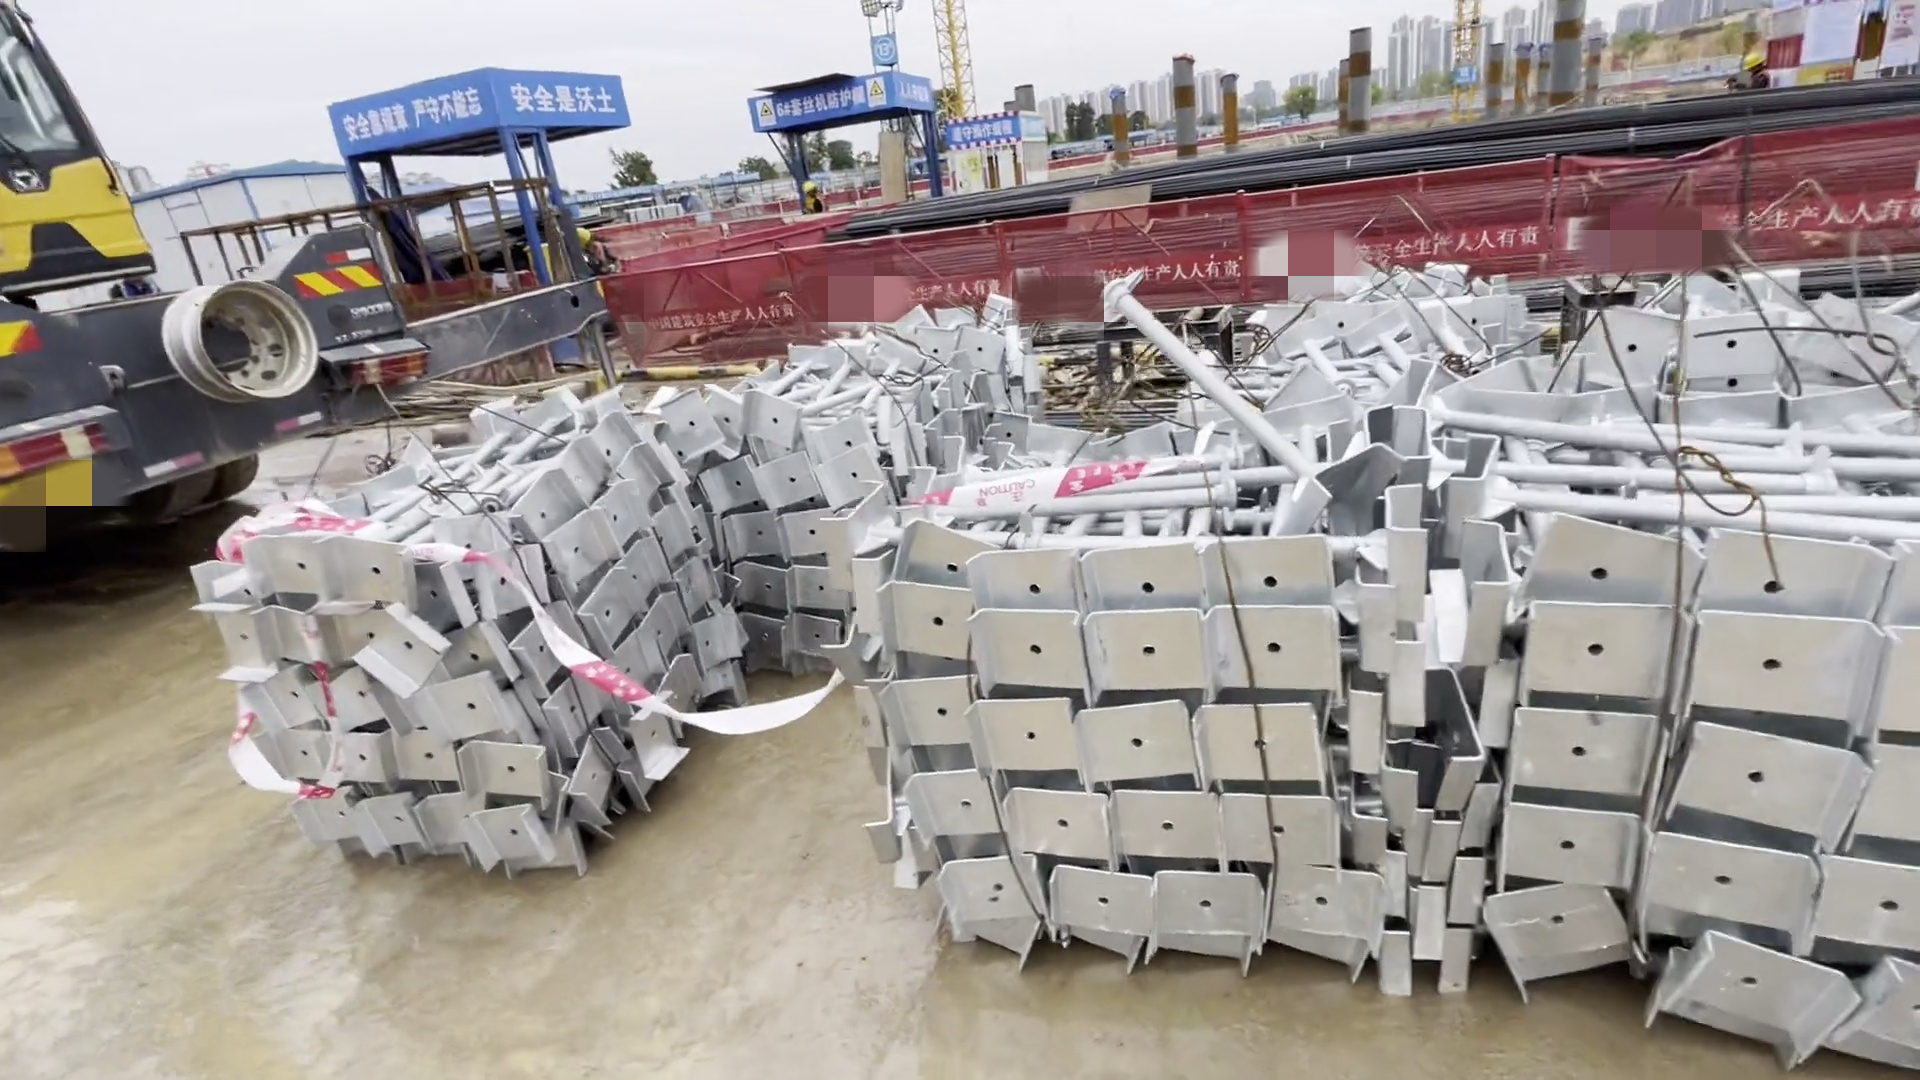slogan: (328, 84, 636, 138), (758, 80, 934, 123), (928, 123, 1025, 152)
